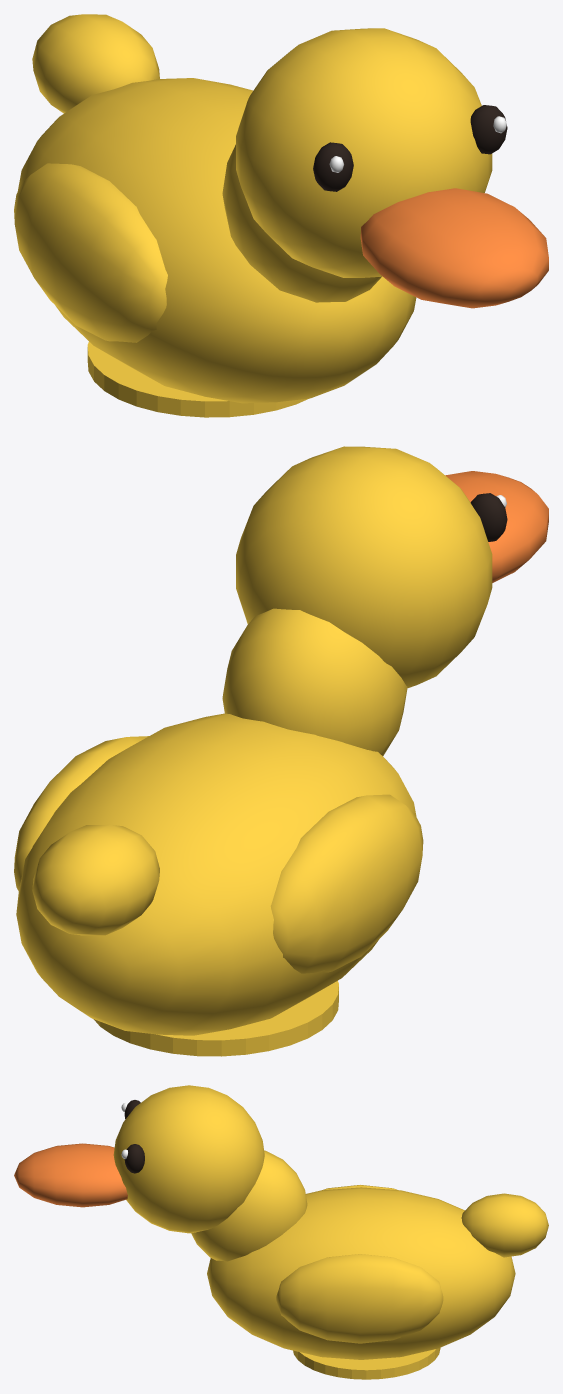
The model's file is rubber_duck.glb.
The picture shows the model from 3 angles, top to bottom: view 1: azimuth 30°, elevation 25°; view 2: azimuth 150°, elevation 25°; view 3: azimuth 270°, elevation 25°; orthographic projection. The views are drawn at different scales.
Visible parts, largest first — view 1: rubber_duck_Duck bath yellow, rubber_duck_Duck beak orange, rubber_duck_Duck ink eyes; view 2: rubber_duck_Duck bath yellow, rubber_duck_Duck beak orange, rubber_duck_Duck ink eyes; view 3: rubber_duck_Duck bath yellow, rubber_duck_Duck beak orange, rubber_duck_Duck ink eyes.
Boxes of the visible parts, box(x1,y1,x2,y2) form: rubber_duck_Duck bath yellow: box(14, 14, 492, 417); rubber_duck_Duck beak orange: box(360, 188, 548, 308); rubber_duck_Duck ink eyes: box(313, 105, 507, 191); rubber_duck_Duck bath yellow: box(14, 446, 492, 1056); rubber_duck_Duck beak orange: box(445, 471, 548, 582); rubber_duck_Duck ink eyes: box(470, 493, 507, 541); rubber_duck_Duck bath yellow: box(113, 1085, 548, 1379); rubber_duck_Duck beak orange: box(14, 1143, 127, 1207); rubber_duck_Duck ink eyes: box(124, 1100, 144, 1173).
Bounding box in the file's own units: 0.2808 × 0.3523 × 0.6669.
